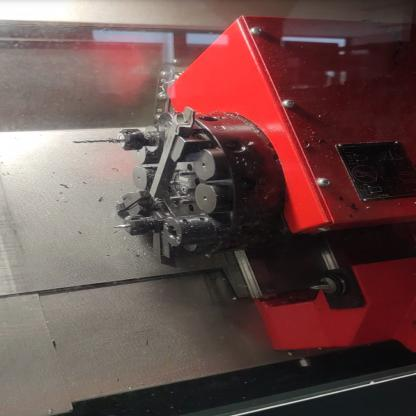bit: (147, 103, 219, 200), (147, 207, 182, 273), (108, 186, 157, 222)
